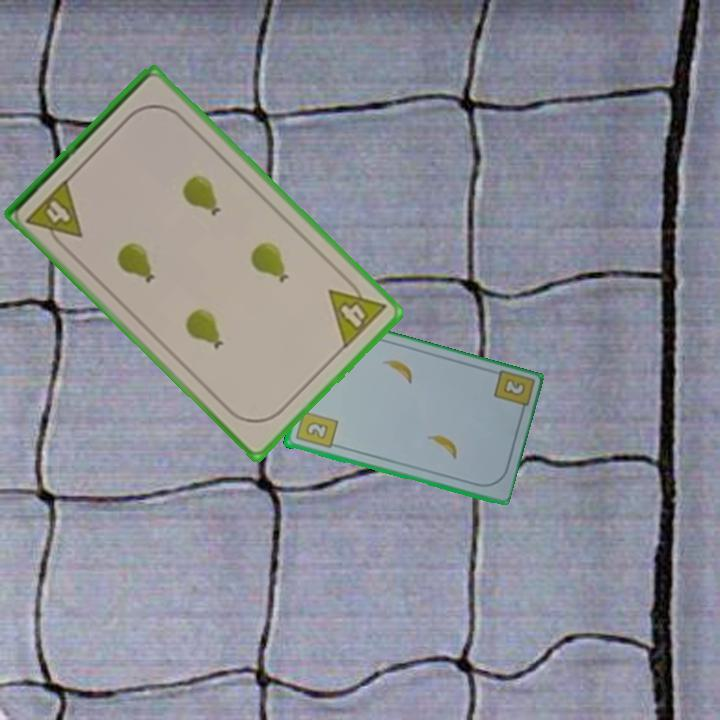2b: (292, 402, 340, 451), (499, 375, 528, 399)
4p: (325, 271, 390, 352), (23, 175, 86, 253)
